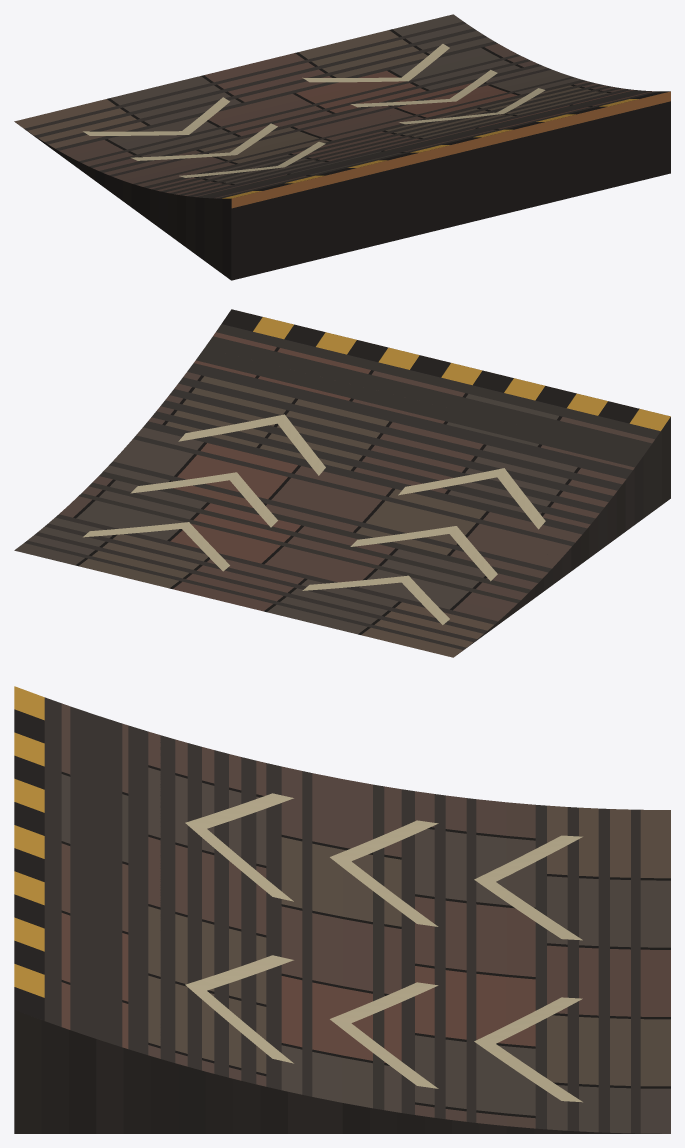
The model's file is plate_kicker_12x2p5x14.glb.
3 views of the same model, one above another, from view 1: azimuth 30°, elevation 25°; view 2: azimuth 150°, elevation 25°; view 3: azimuth 270°, elevation 25° (orthographic). The views are drawn at different scales.
Parts seen in each view (by area): view 1: plate_kicker_12x2p5x14, plate_kicker_12x2p5x14-col; view 2: plate_kicker_12x2p5x14, plate_kicker_12x2p5x14-col; view 3: plate_kicker_12x2p5x14, plate_kicker_12x2p5x14-col.
Boxes of the visible parts, x1,y1,x2,y2 form: plate_kicker_12x2p5x14: (14,14,670,280); plate_kicker_12x2p5x14-col: (24,21,659,198); plate_kicker_12x2p5x14: (14,309,670,657); plate_kicker_12x2p5x14-col: (24,324,660,649); plate_kicker_12x2p5x14: (14,686,670,1133); plate_kicker_12x2p5x14-col: (44,697,661,1133).
Size of the model in its own units: 14 by 2.5 by 12.
